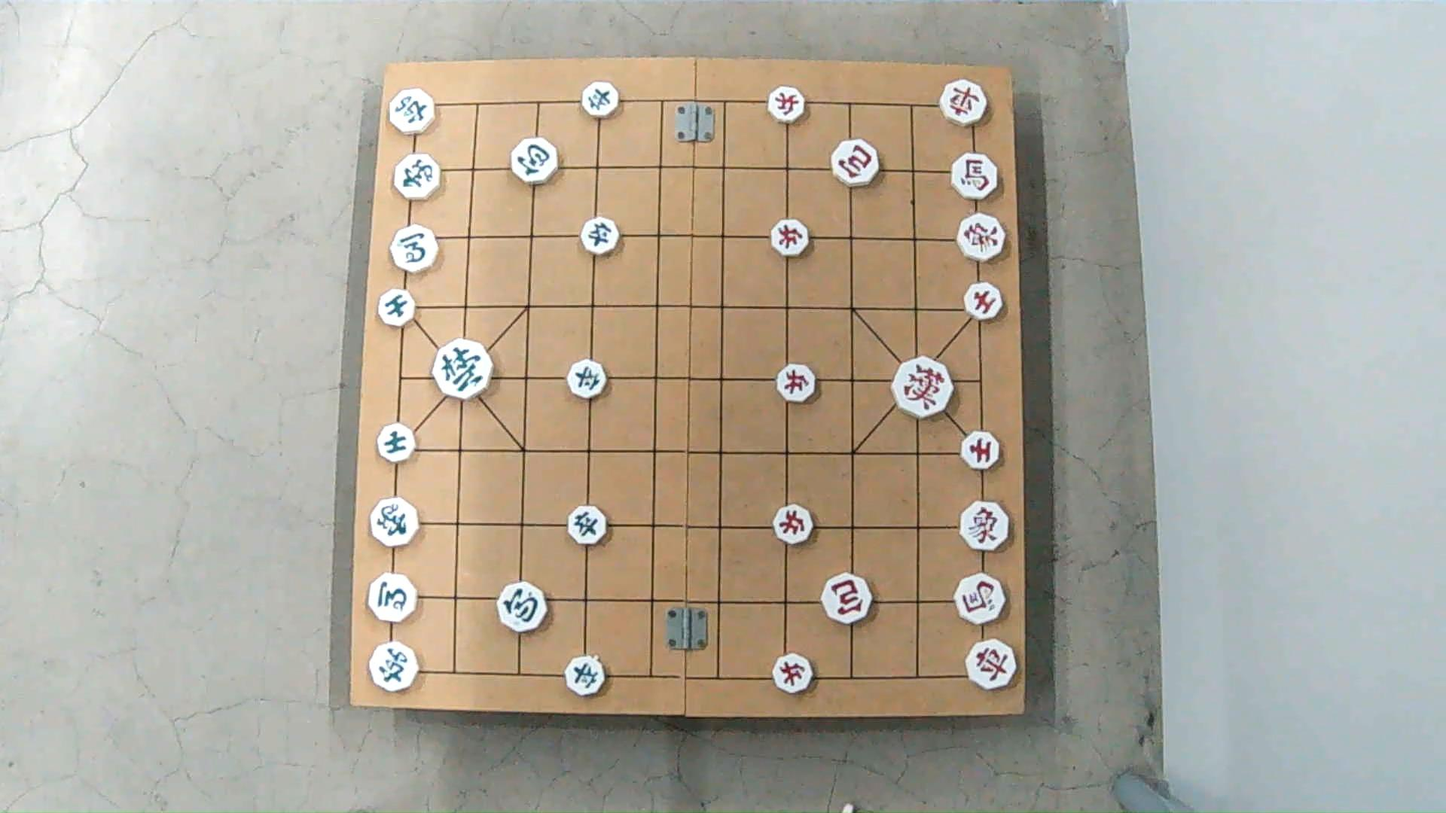cha_green: (371, 645, 423, 691), (387, 90, 436, 132)
cha_red: (962, 637, 1019, 690), (939, 79, 992, 126)
jol_green: (564, 659, 609, 696), (566, 361, 609, 397), (566, 510, 608, 546), (580, 221, 624, 254), (581, 84, 624, 117)
jol_red: (767, 221, 816, 259), (772, 505, 818, 544), (771, 655, 817, 693), (776, 366, 820, 401), (767, 89, 810, 120)
ma_green: (368, 574, 419, 620), (392, 227, 442, 270)
ma_red: (955, 575, 1008, 621), (949, 155, 1001, 198)
po_green: (508, 139, 563, 184), (498, 586, 551, 630)
po_red: (824, 576, 877, 623), (829, 139, 881, 186)
sa_green: (378, 289, 417, 328), (377, 427, 416, 462)
sa_red: (964, 282, 1007, 324), (962, 428, 1002, 467)
sang_green: (370, 496, 423, 550), (391, 154, 444, 202)
sang_red: (959, 505, 1013, 551), (956, 216, 1008, 260)
wang_green: (435, 342, 497, 397)
wang_red: (891, 358, 955, 415)
